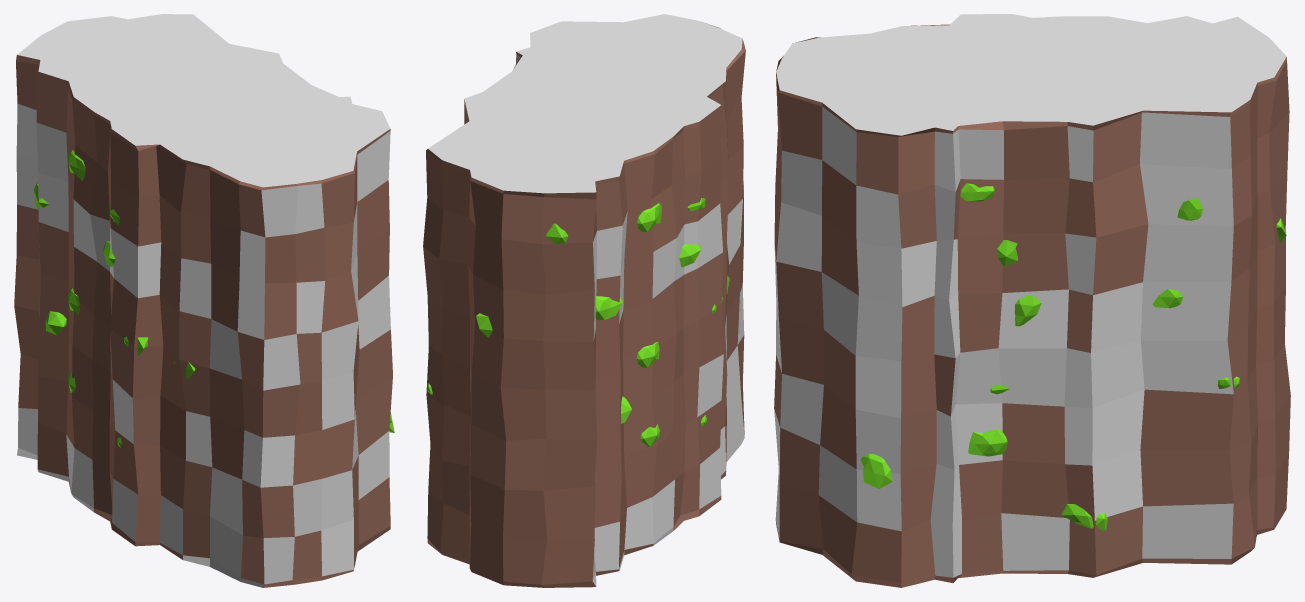
The model's file is Jade.fbx.
3 views of the same model, side by side, from view 1: azimuth 30°, elevation 25°; view 2: azimuth 150°, elevation 25°; view 3: azimuth 270°, elevation 25° (orthographic). The views are drawn at different scales.
Parts seen in each view (by area): view 1: Icosphere.002; view 2: Icosphere.002; view 3: Icosphere.002.
Boxes of the visible parts, x1,y1,x2,y2 form: Icosphere.002: (14,14,394,587); Icosphere.002: (423,14,745,587); Icosphere.002: (774,14,1290,587).
Bounding box in the file's own units: 1000 × 1704 × 1764.
